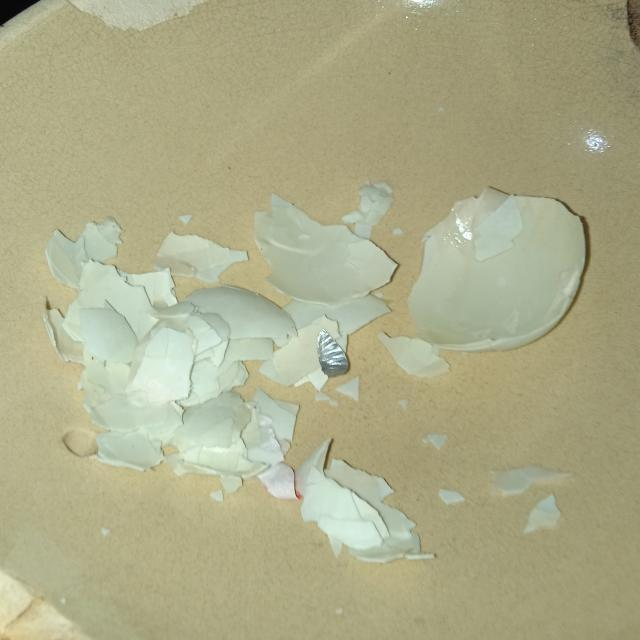egg shell: (408, 166, 596, 358), (280, 424, 452, 584), (246, 180, 404, 314), (171, 285, 301, 345), (78, 379, 188, 441), (265, 290, 401, 338), (150, 231, 252, 281), (134, 326, 196, 406), (74, 299, 138, 361), (175, 397, 251, 445), (85, 432, 171, 470), (44, 226, 90, 292), (252, 390, 302, 450), (521, 493, 564, 538), (263, 466, 295, 495)
